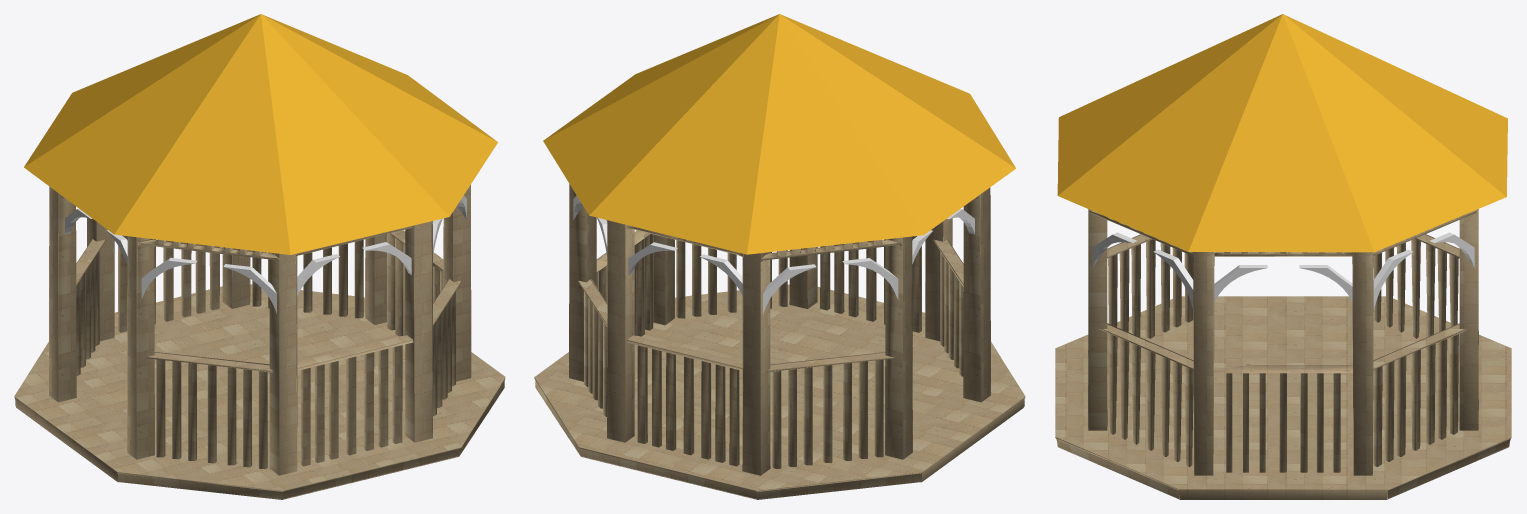
3 views of the same model, side by side, from view 1: azimuth 30°, elevation 25°; view 2: azimuth 150°, elevation 25°; view 3: azimuth 270°, elevation 25° (orthographic).
Visible parts, largest first — view 1: Body_Material.001_0.003, Cone, Cube_Material.001_0.003; view 2: Body_Material.001_0.003, Cone, Cube_Material.001_0.003; view 3: Body_Material.001_0.003, Cone, Cube_Material.001_0.003.
Part boxes in pixels (box(x1,y1,x2,y2)): Body_Material.001_0.003: box(14, 184, 505, 499); Cone: box(24, 14, 497, 254); Cube_Material.001_0.003: box(65, 195, 466, 313); Body_Material.001_0.003: box(534, 184, 1025, 499); Cone: box(543, 14, 1015, 254); Cube_Material.001_0.003: box(573, 195, 974, 313); Body_Material.001_0.003: box(1055, 209, 1511, 499); Cone: box(1057, 14, 1507, 252); Cube_Material.001_0.003: box(1092, 232, 1474, 311).
Size of the model in its own units: 1.88 by 1.77 by 1.89.
Materials: 3 (1 with a texture image).
